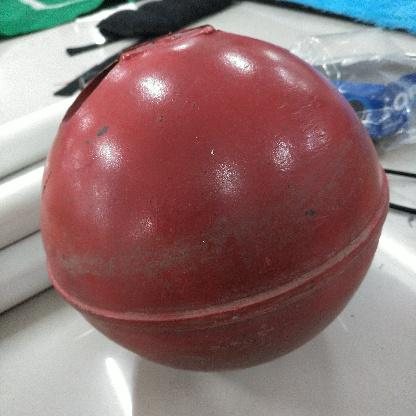red_buoy: (39, 20, 391, 376)
